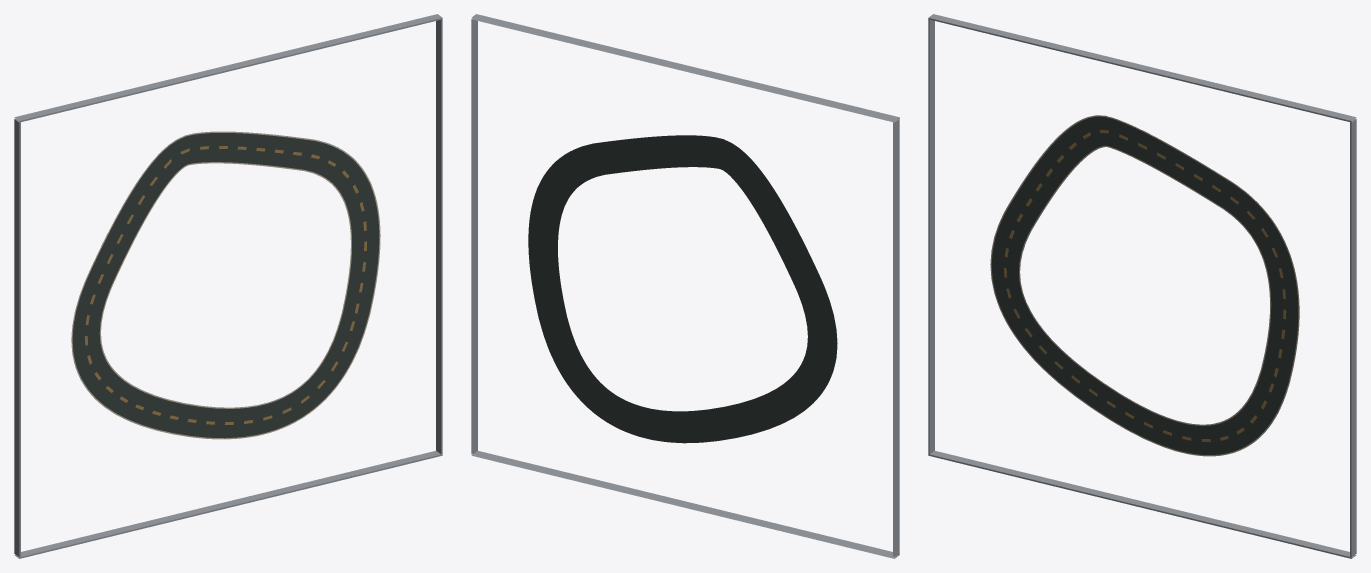
File: track.obj
The picture shows the model from 3 angles, left to right: view 1: azimuth 30°, elevation 25°; view 2: azimuth 150°, elevation 25°; view 3: azimuth 330°, elevation 25°; orthographic projection.
Size of the model in its own units: 14.19 by 14.02 by 0.3.
Materials: 4 (4 with a texture image).
